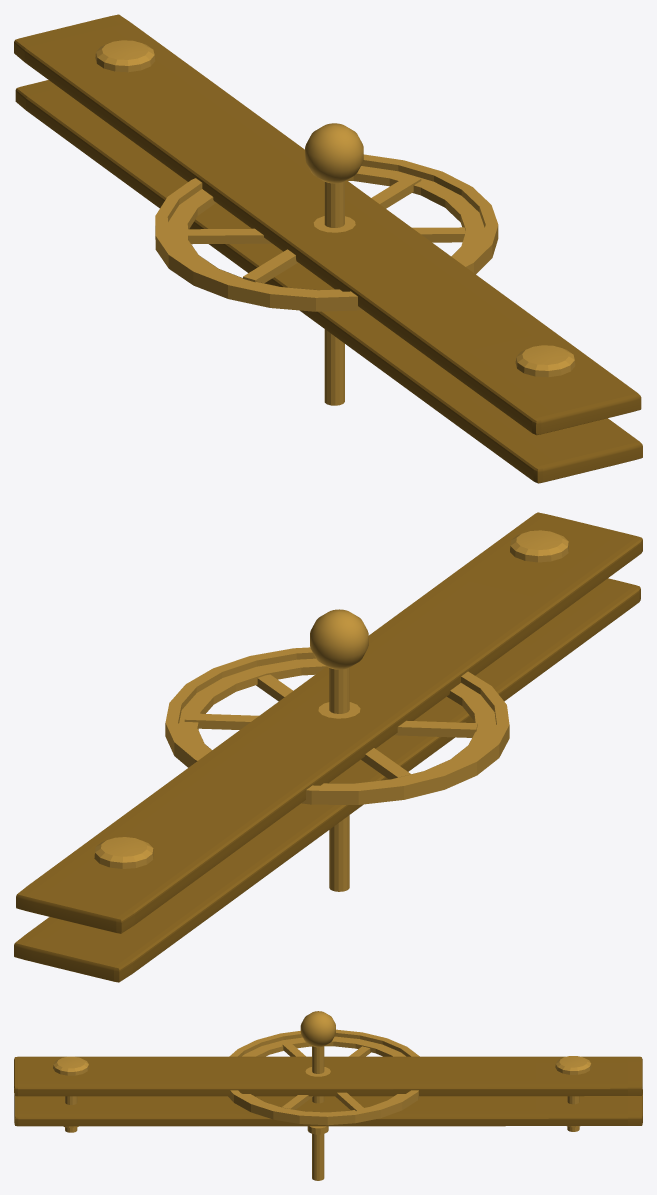
The model's file is zizhuan.fbx.
3 renders of one model, top to bottom at view 1: azimuth 30°, elevation 25°; view 2: azimuth 150°, elevation 25°; view 3: azimuth 270°, elevation 25°, orthographic. The views are drawn at different scales.
Parts seen in each view (by area): view 1: 立方体.063; view 2: 立方体.063; view 3: 立方体.063.
Part boxes in pixels (x1,y1,x2,y2): 立方体.063: [14, 14, 642, 483]; 立方体.063: [14, 512, 642, 982]; 立方体.063: [14, 1011, 642, 1180].
Size of the model in its own units: 100 by 88.57 by 305.
